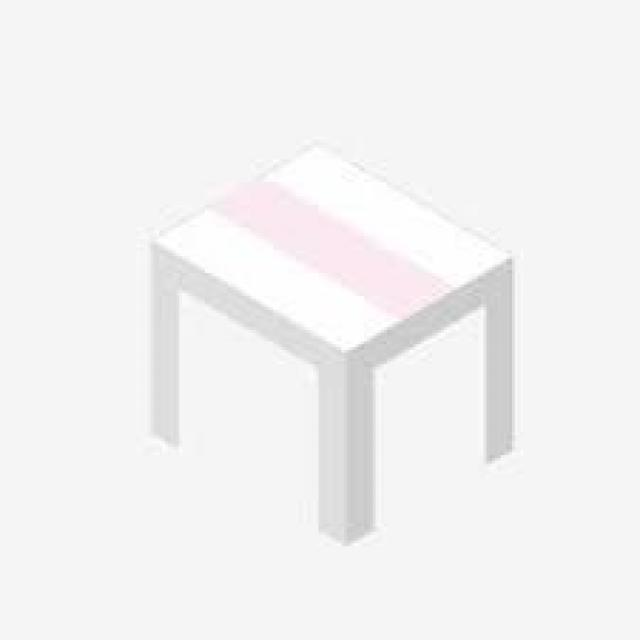table: (98, 117, 562, 563)
